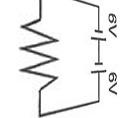resistor: (17, 8, 60, 96)
